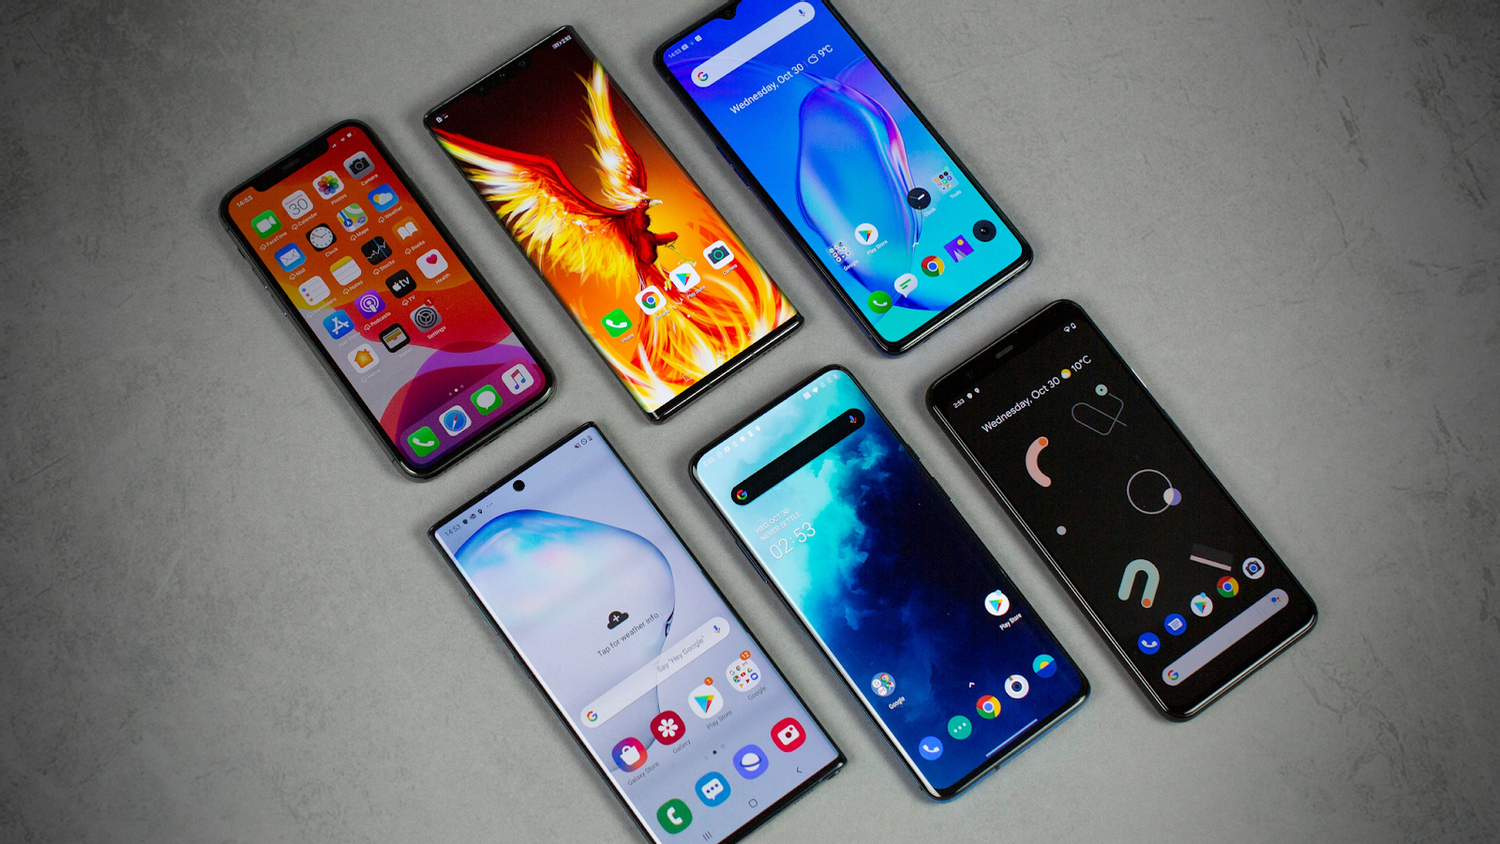phones: (668, 358, 1107, 811), (403, 416, 862, 844), (918, 307, 1328, 742), (417, 22, 819, 454), (625, 7, 1065, 359), (204, 116, 576, 484)
